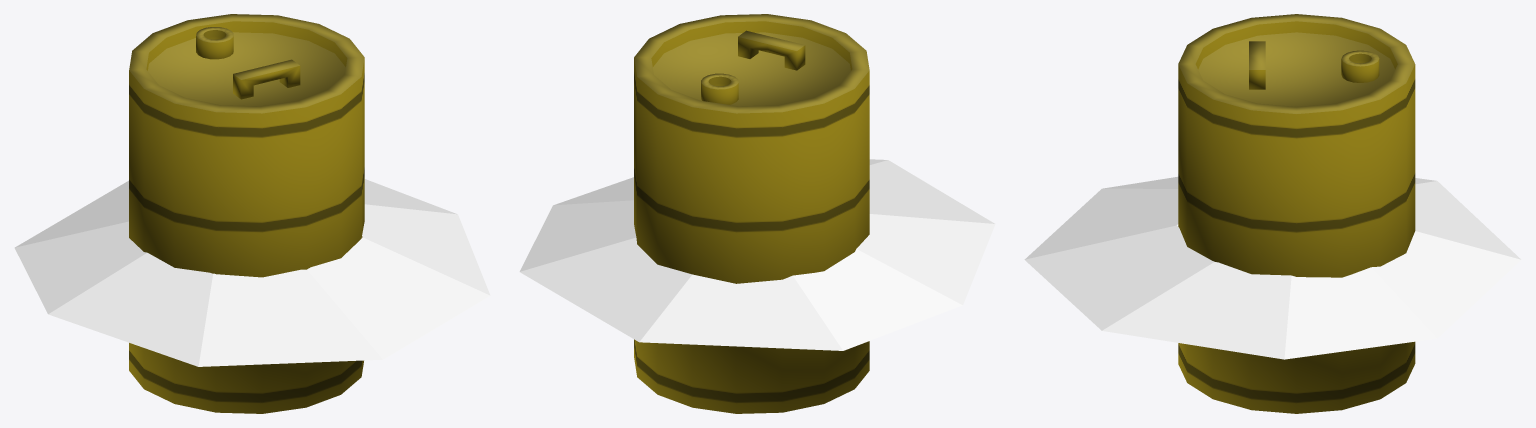
The model's file is oilBarel.fbx.
The picture shows the model from 3 angles, left to right: view 1: azimuth 30°, elevation 25°; view 2: azimuth 150°, elevation 25°; view 3: azimuth 270°, elevation 25°; orthographic projection.
Visible parts, largest first — view 1: oilBarel, oilBarelriple; view 2: oilBarel, oilBarelriple; view 3: oilBarel, oilBarelriple.
Part boxes in pixels (left/top/right/bottom): oilBarel: left=129, top=14, right=364, bottom=413; oilBarelriple: left=14, top=179, right=490, bottom=366; oilBarel: left=634, top=14, right=869, bottom=413; oilBarelriple: left=519, top=159, right=995, bottom=350; oilBarel: left=1178, top=14, right=1415, bottom=413; oilBarelriple: left=1024, top=176, right=1521, bottom=359.
Size of the model in its own units: 2.85 by 2.05 by 3.
